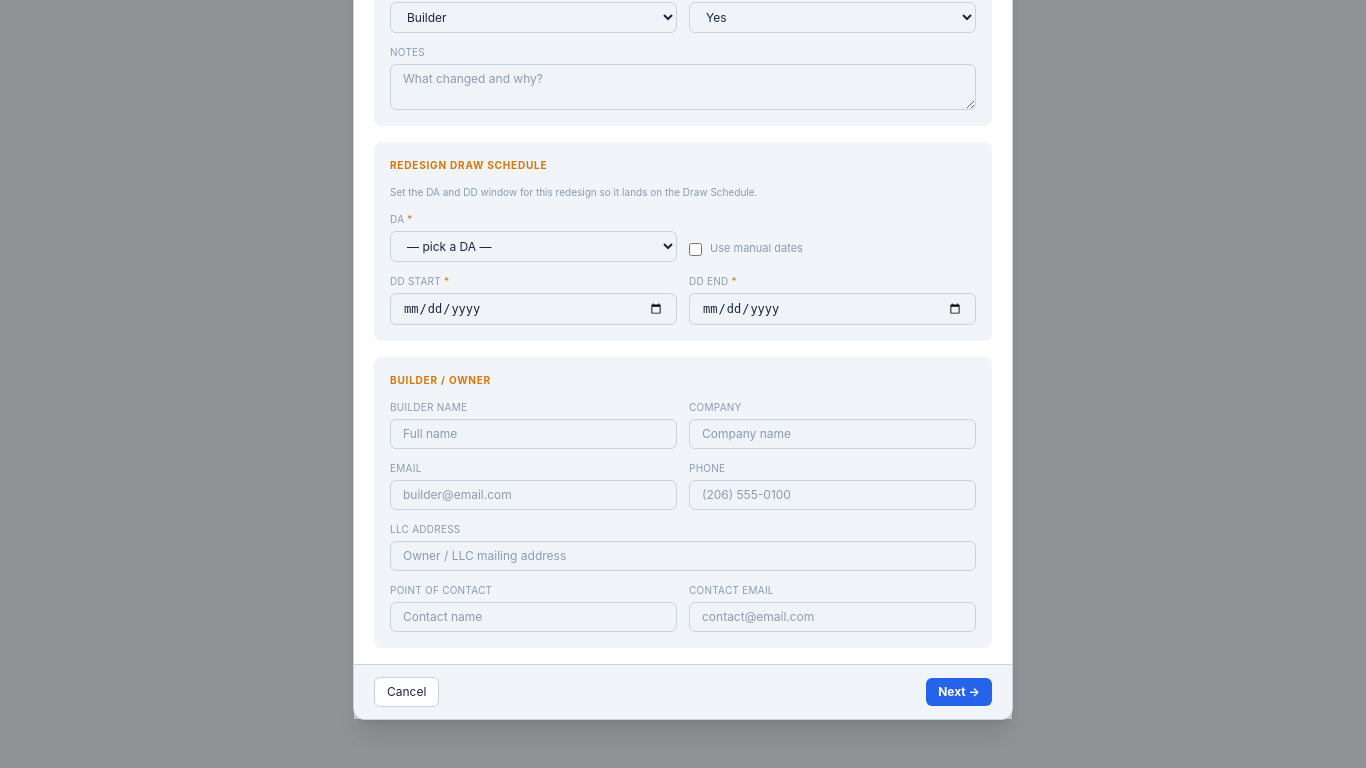
Test: Redesign DD phase — full wizard submit › blocks submit when the draw window is blank
The width and height of the screenshot is (1366, 768).
(page scrolled)
Click the button with test id "wizard-next".
click(959, 692)  # box [926, 678, 992, 706]
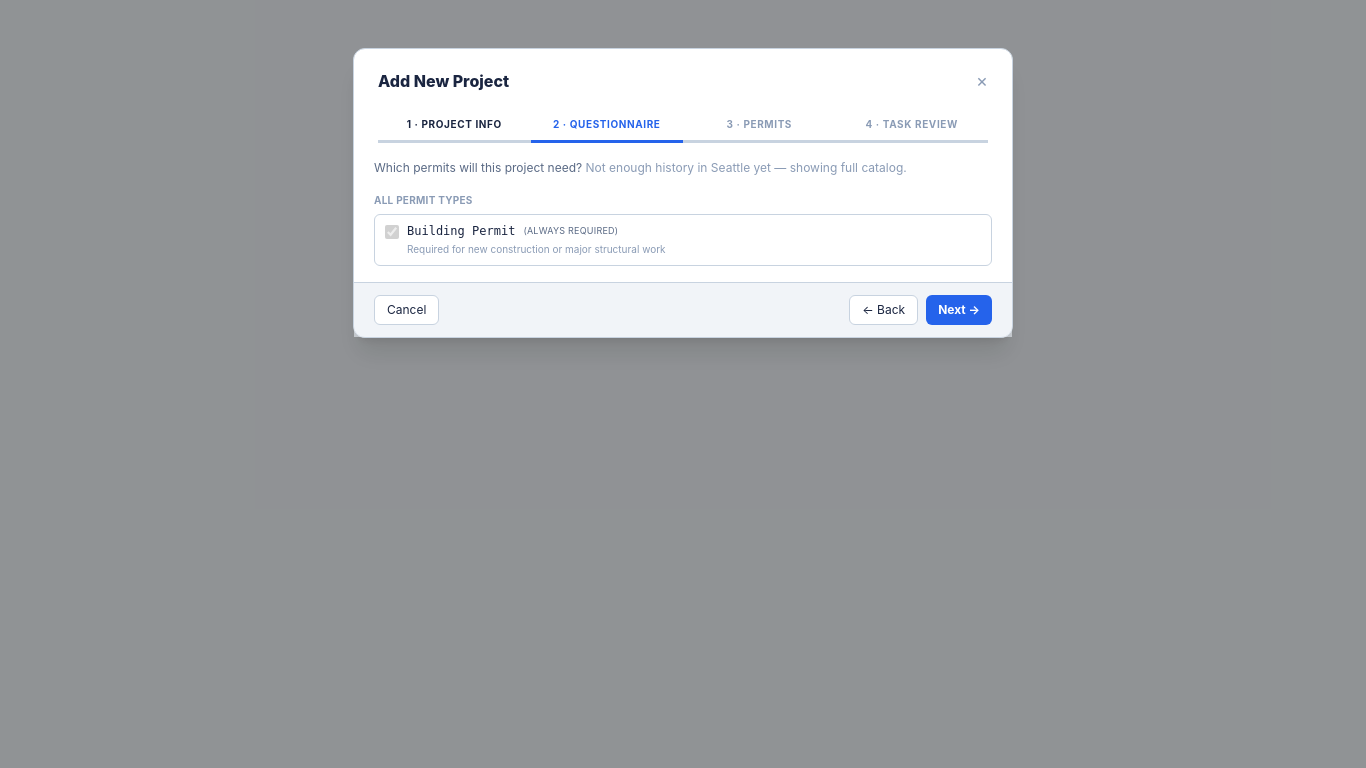
Click the button with test id "wizard-next".
click(959, 310)  # box [926, 295, 992, 325]
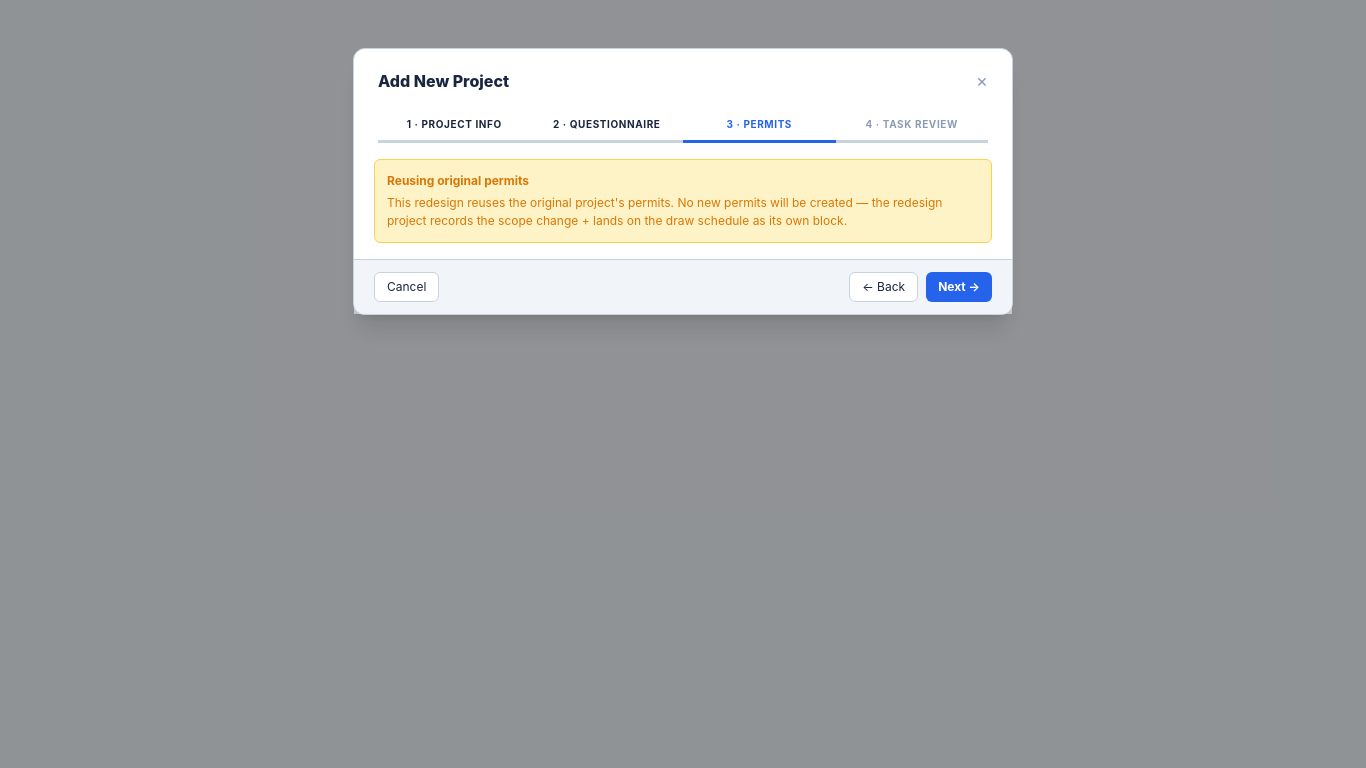
Click the button with test id "wizard-next".
click(959, 287)  # box [926, 272, 992, 302]
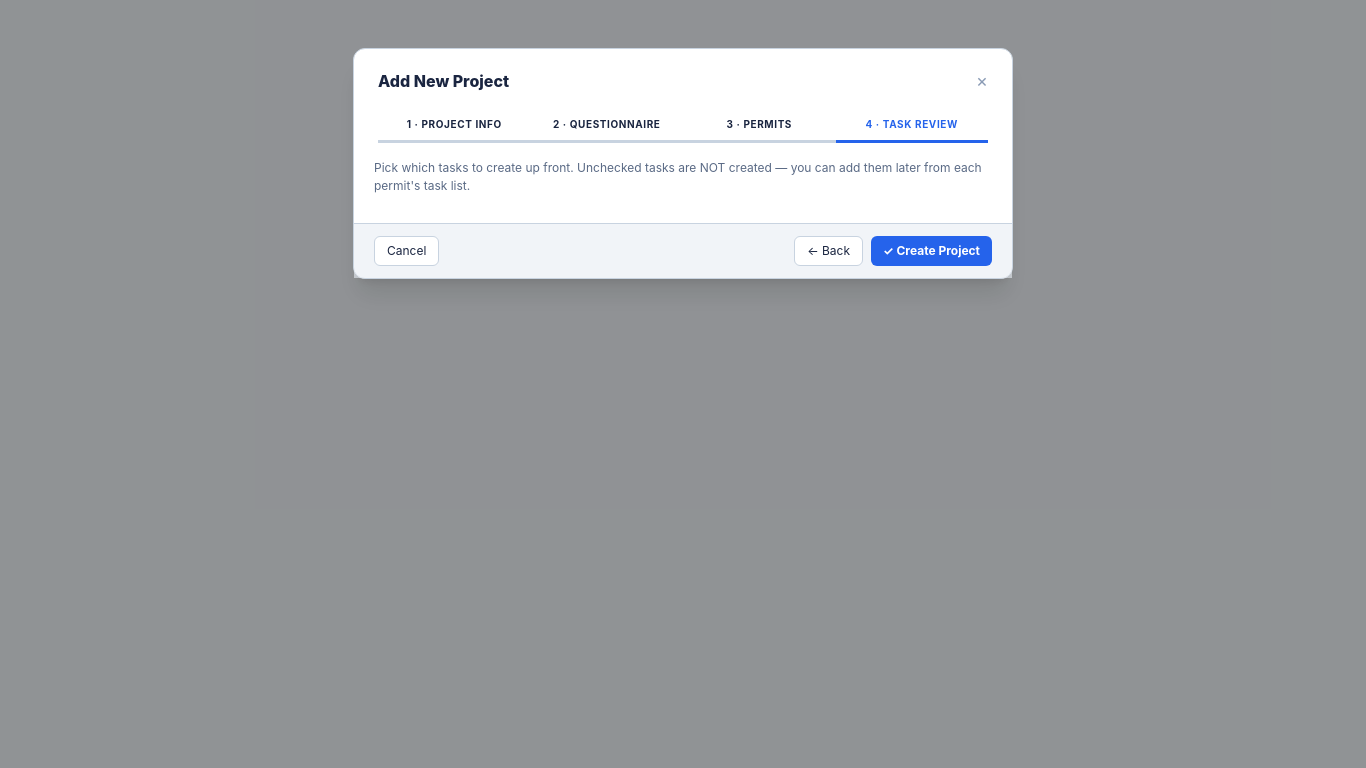
Click the button with test id "wizard-save".
click(932, 251)  # box [871, 236, 992, 266]
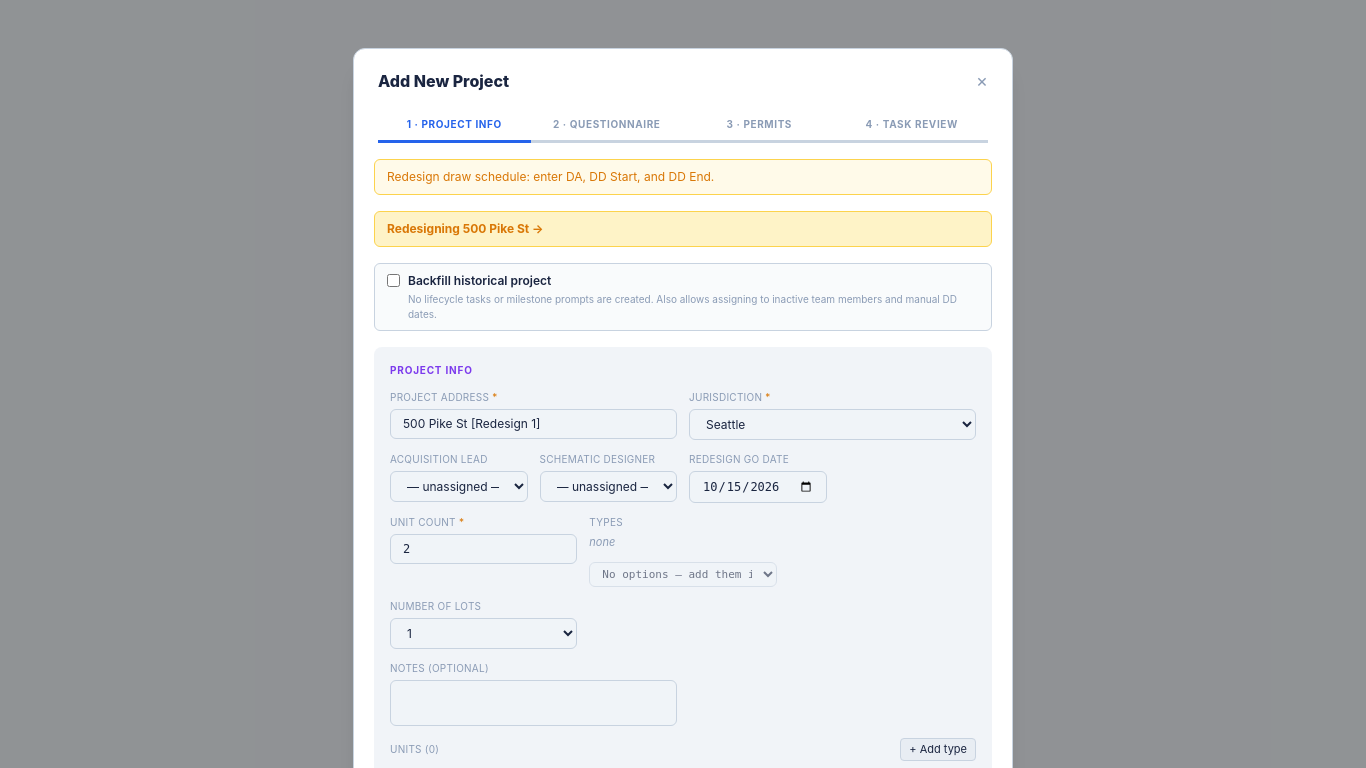
Result: the text with test id "wizard-validation" shows "Redesign draw schedule" at [387, 169, 714, 184]
